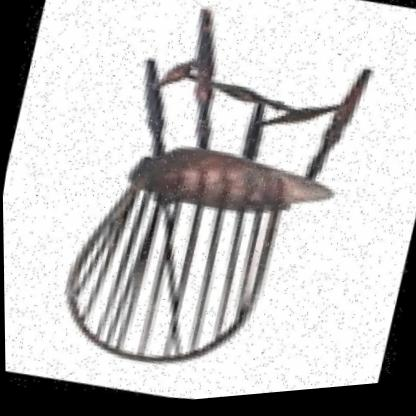Chair: (19, 0, 416, 415)
